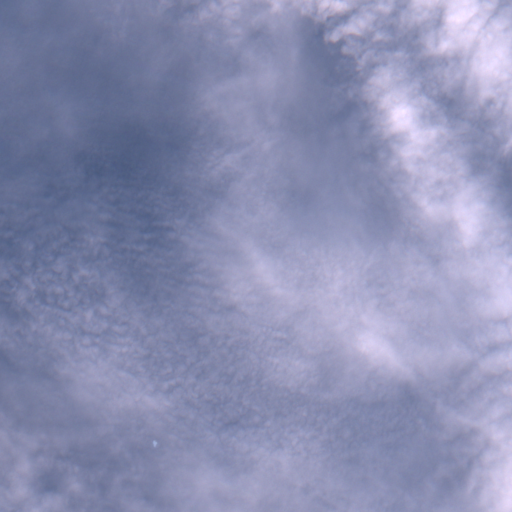Iceberg: (153, 441, 156, 446)
